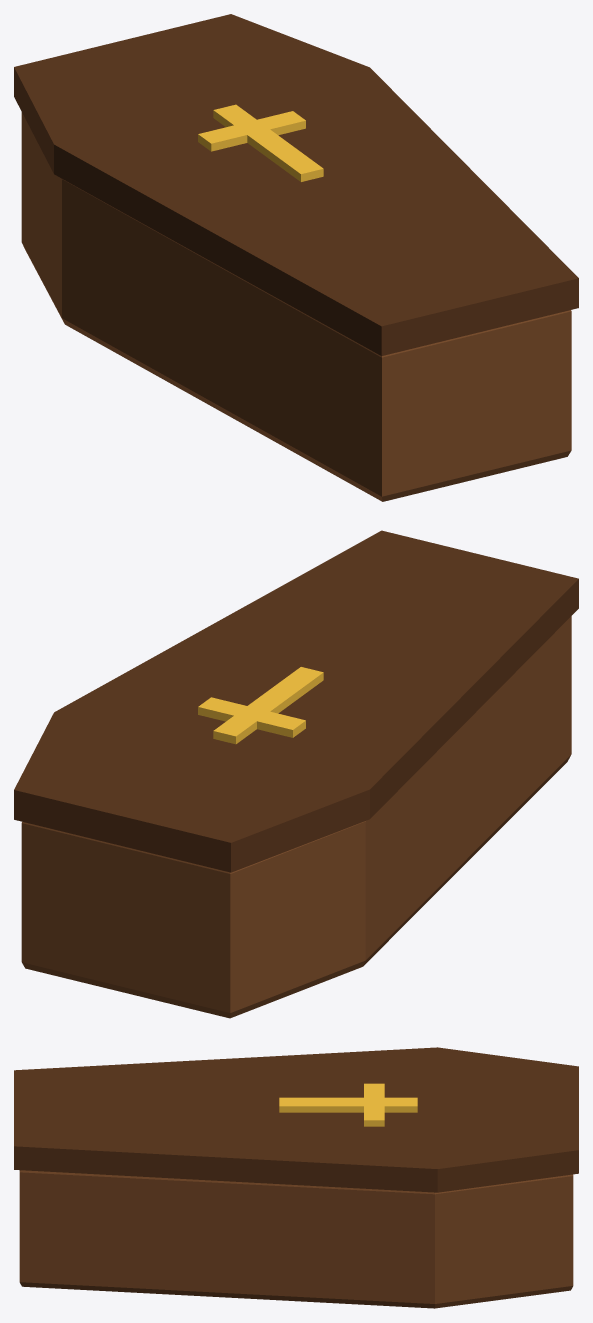
File: Coffin.fbx
3 renders of one model, top to bottom at view 1: azimuth 30°, elevation 25°; view 2: azimuth 150°, elevation 25°; view 3: azimuth 270°, elevation 25°, orthographic. The views are drawn at different scales.
Visible parts, largest first — view 1: Coffin; view 2: Coffin; view 3: Coffin.
Part boxes in pixels (left/top/right/bottom): Coffin: left=14, top=14, right=578, bottom=501; Coffin: left=14, top=530, right=578, bottom=1018; Coffin: left=14, top=1047, right=578, bottom=1308.
Size of the model in its own units: 1.66 by 0.965 by 3.26.
1 material, 1 textured.
